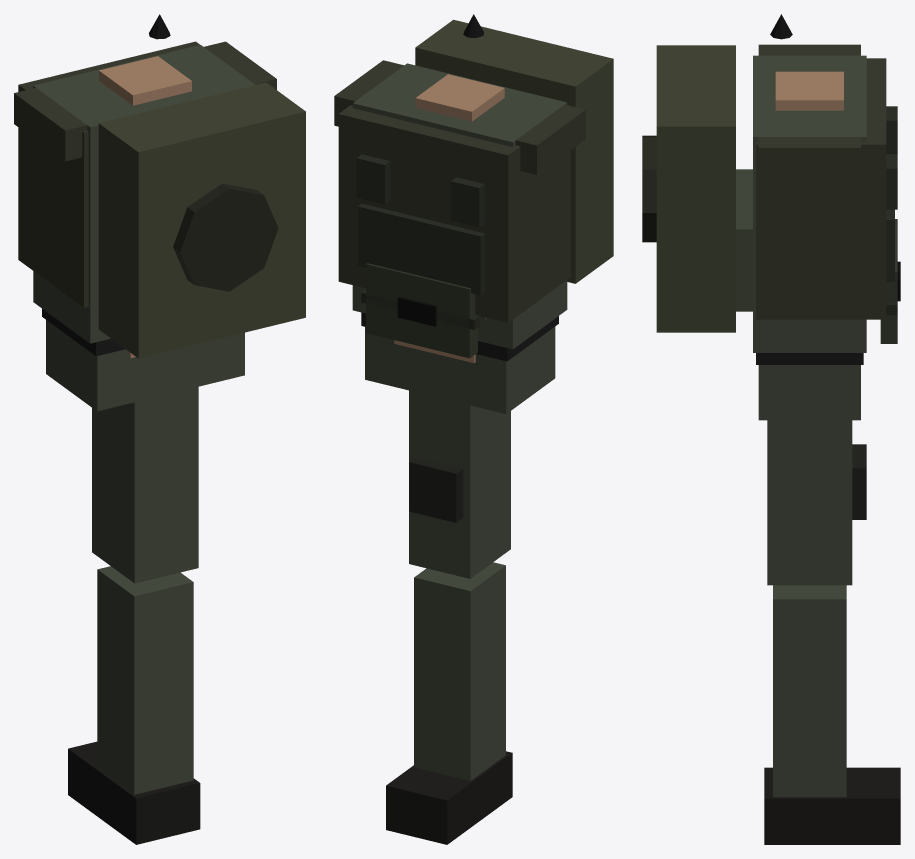
Rendered from operator_fuze.glb.
The picture shows the model from 3 angles, left to right: view 1: azimuth 30°, elevation 25°; view 2: azimuth 150°, elevation 25°; view 3: azimuth 270°, elevation 25°; orthographic projection. The views are drawn at different scales.
Parts seen in each view (by area): view 1: torso, legL, hips; view 2: torso, legL, hips, head; view 3: torso, legL, hips, head.
Boxes of the visible parts, <box> form: torso: <box>14,14,305,358</box>; legL: <box>68,386,200,844</box>; hips: <box>42,309,244,411</box>; torso: <box>334,14,613,349</box>; legL: <box>386,390,512,844</box>; hips: <box>361,312,558,413</box>; head: <box>361,263,486,363</box>; torso: <box>642,14,897,352</box>; legL: <box>764,420,900,844</box>; hips: <box>756,353,863,420</box>; head: <box>736,169,900,343</box>.
Bounding box in the file's own units: 0.43 × 1.58 × 0.455.
